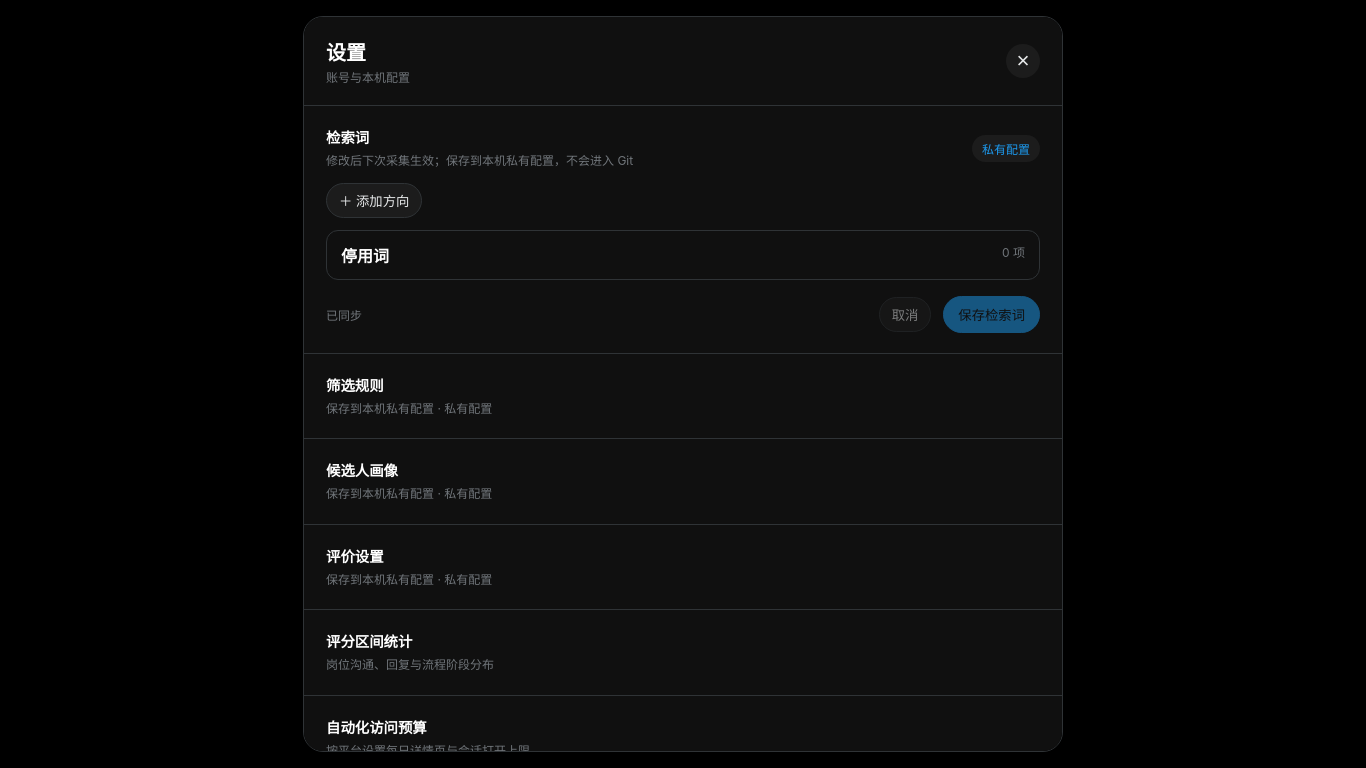
frontend components › renders each settings section and warns when evaluation weights do not total 100
Check: the heading "检索词" is shown, box [326,129,369,146]
Check: the heading "筛选规则" is shown, box [326,377,384,394]
Click the heading "评价设置".
click(355, 556)  # box [326,548,384,565]
(page scrolled)
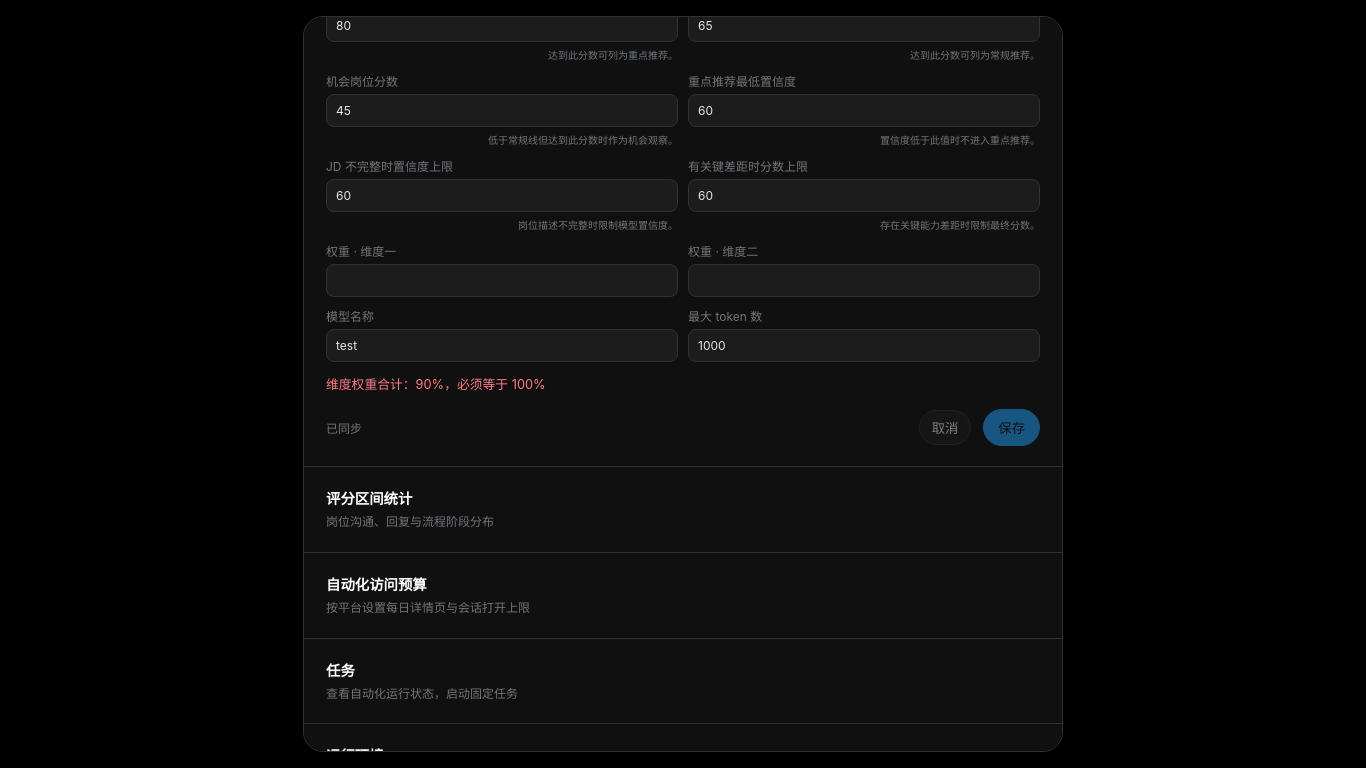
Check: the text "维度权重合计：90%，必须等于 100%" is shown, box [326,377,546,392]
